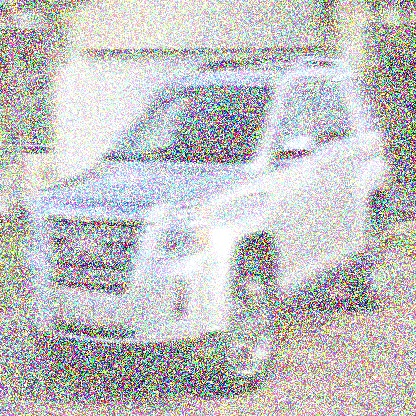Vehicle: (20, 55, 394, 400)
